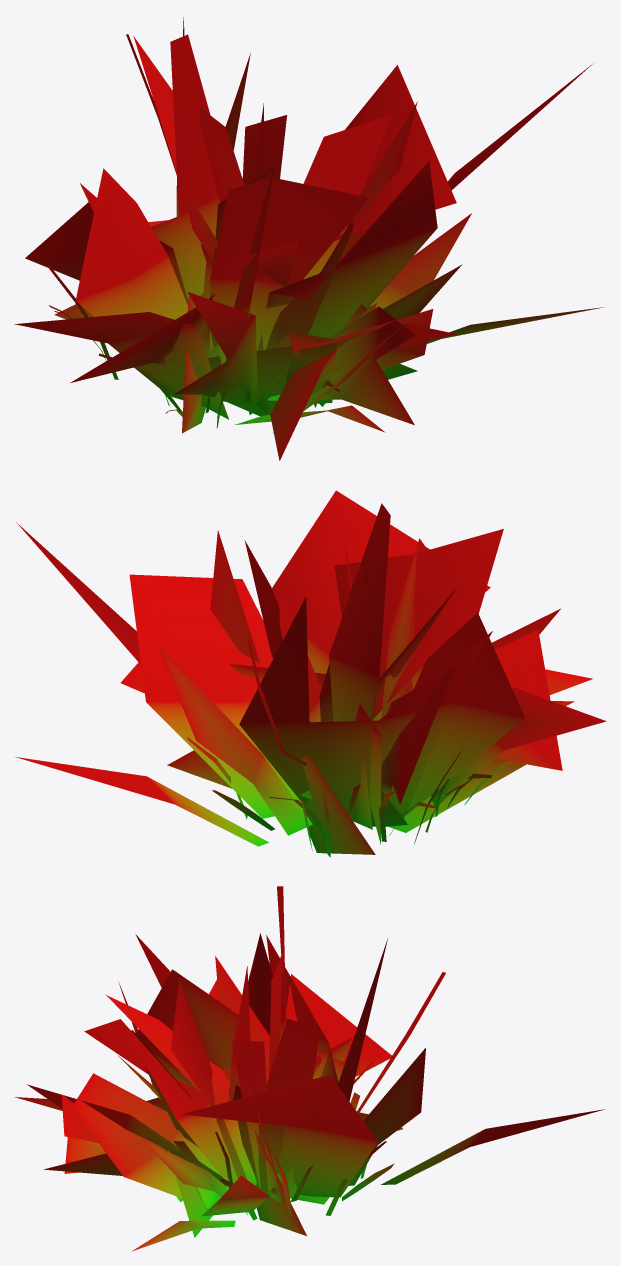
File: Tundra Grass_LOD5_Var2_wk2oaeyqx.fbx
3 views of the same model, one above another, from view 1: azimuth 30°, elevation 25°; view 2: azimuth 150°, elevation 25°; view 3: azimuth 270°, elevation 25° (orthographic). The views are drawn at different scales.
Visible parts, largest first — view 1: _lpc1_Var2_LOD5; view 2: _lpc1_Var2_LOD5; view 3: _lpc1_Var2_LOD5.
Boxes of the visible parts, x1,y1,x2,y2 form: _lpc1_Var2_LOD5: (14, 17, 604, 460); _lpc1_Var2_LOD5: (15, 490, 606, 857); _lpc1_Var2_LOD5: (15, 886, 604, 1251).
Size of the model in its own units: 42.74 by 24.83 by 43.91.
